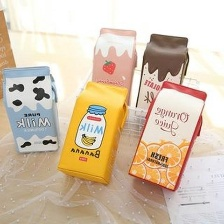carton: (124, 79, 211, 194), (55, 79, 133, 188), (0, 61, 61, 157), (133, 24, 195, 114), (88, 21, 140, 106)
